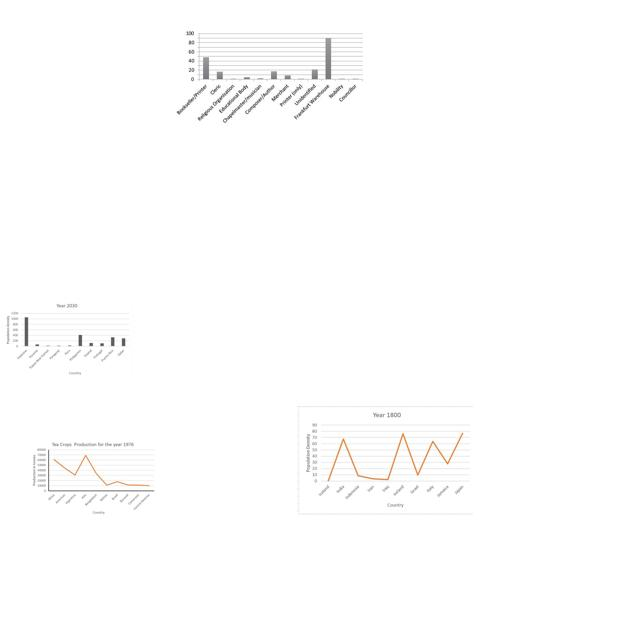Graph: (297, 406, 473, 515), (176, 25, 366, 125), (1, 300, 133, 379), (29, 440, 157, 516)
